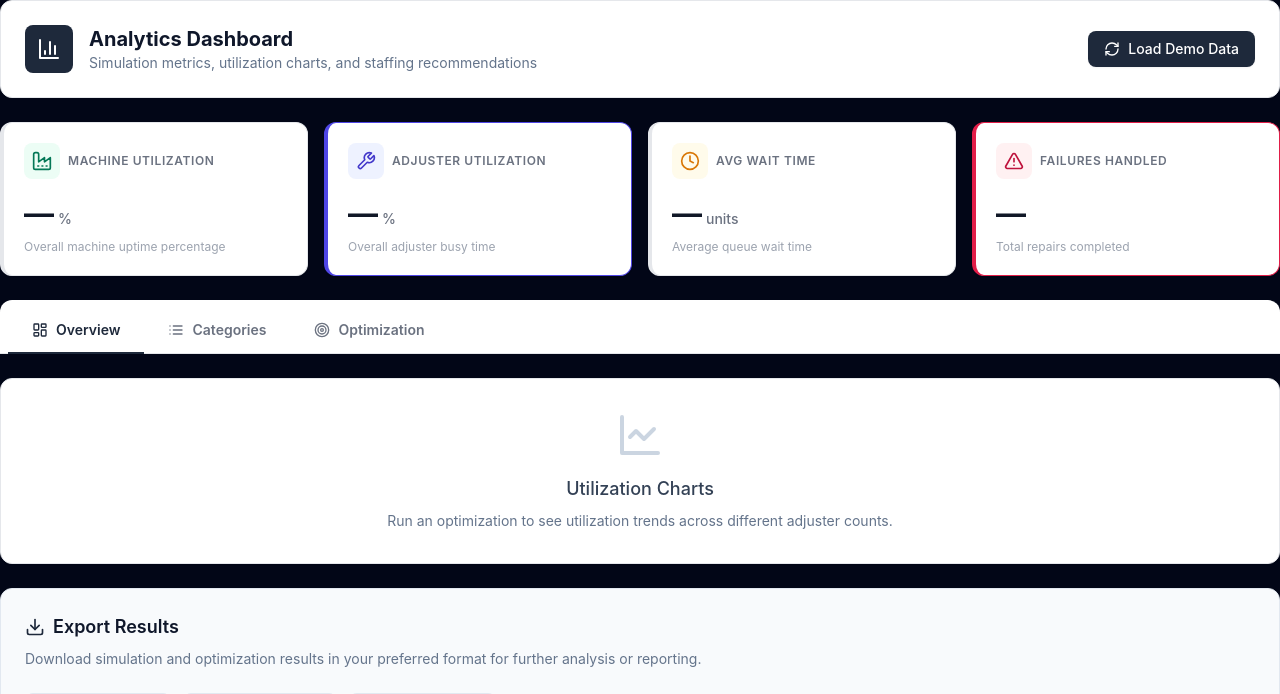
AnalyticsDashboard › loads demo data when button is clicked
The image size is (1280, 694).
Click the button "Load Demo Data": point(1172, 49) [1088,31,1255,67]
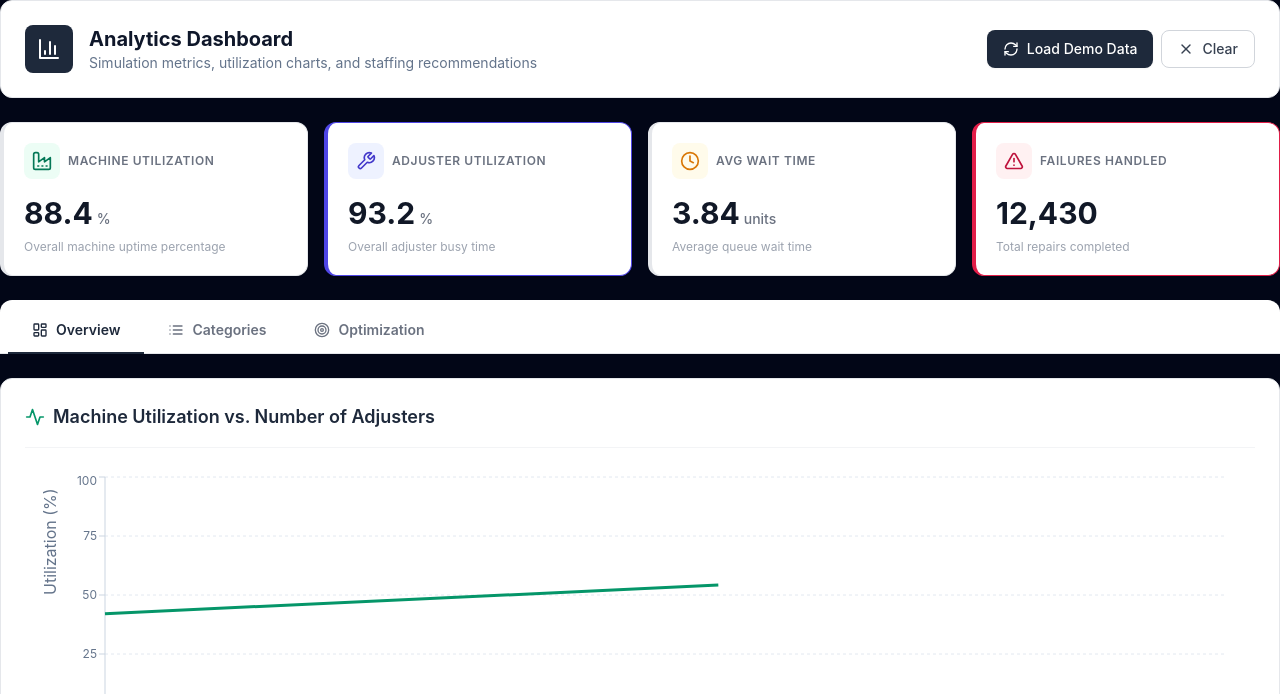
Check: the text "88.4" is shown, box [24,195,93,231]
